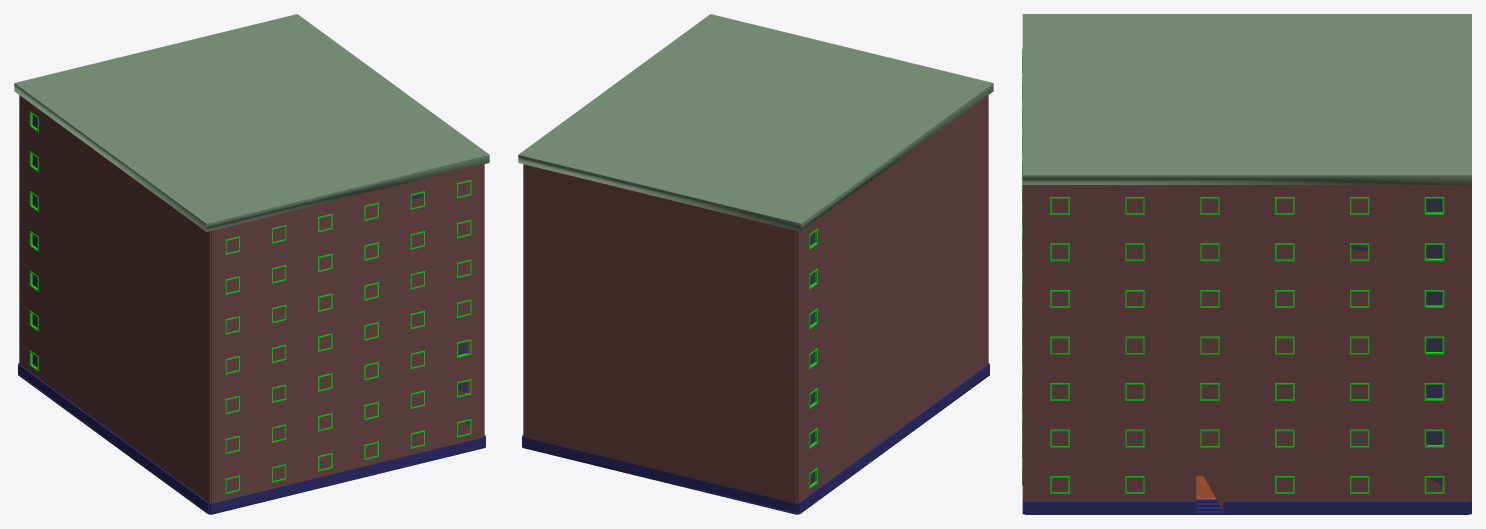
The model's file is BCL30_F07_01.fbx.
3 views of the same model, side by side, from view 1: azimuth 30°, elevation 25°; view 2: azimuth 150°, elevation 25°; view 3: azimuth 270°, elevation 25° (orthographic). The views are drawn at different scales.
Visible parts, largest first — view 1: BCL30_F07_01; view 2: BCL30_F07_01; view 3: BCL30_F07_01.
Part boxes in pixels (x1,y1,x2,y2): BCL30_F07_01: [14, 14, 489, 514]; BCL30_F07_01: [518, 14, 993, 514]; BCL30_F07_01: [1022, 14, 1471, 514].
Bounding box in the file's own units: 2550 × 2514 × 3005.
